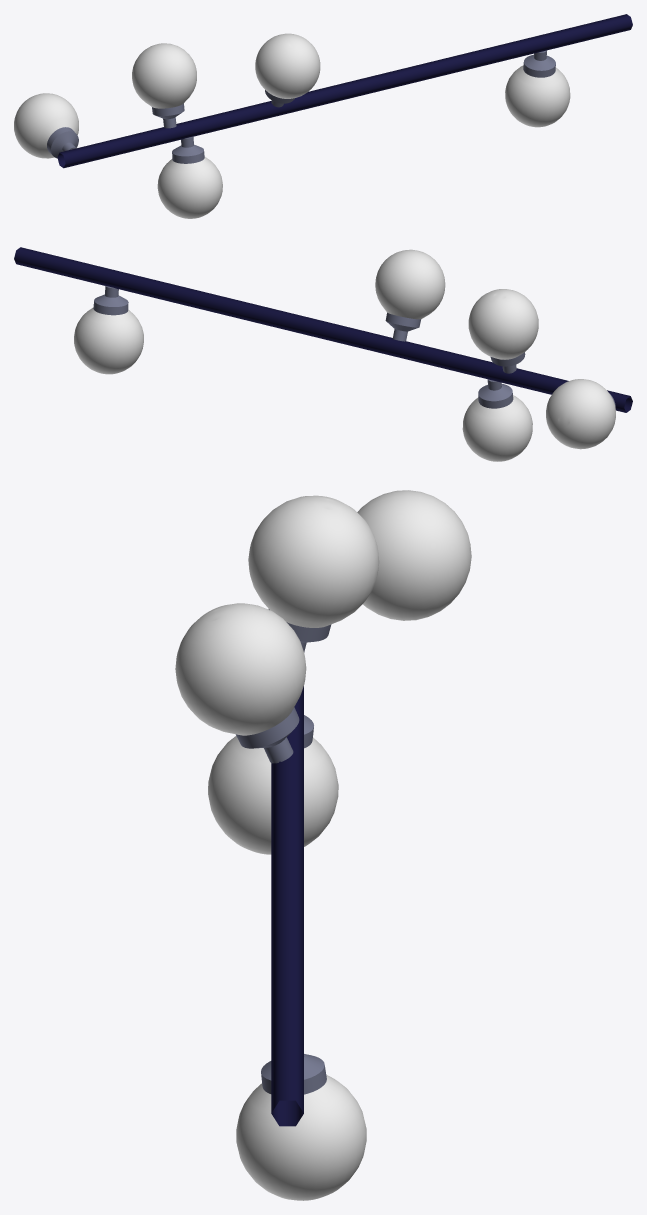
Rendered from Guirlande droite v2.002.fbx.
The picture shows the model from 3 angles, top to bottom: view 1: azimuth 30°, elevation 25°; view 2: azimuth 150°, elevation 25°; view 3: azimuth 270°, elevation 25°; orthographic projection. The views are drawn at different scales.
Parts seen in each view (by area): view 1: BézierCurve; view 2: BézierCurve; view 3: BézierCurve.
Boxes of the visible parts, <box> form: BézierCurve: <box>14,14,632,218</box>; BézierCurve: <box>14,247,632,461</box>; BézierCurve: <box>175,490,471,1200</box>.
Size of the model in its own units: 45.22 by 205 by 55.88.
